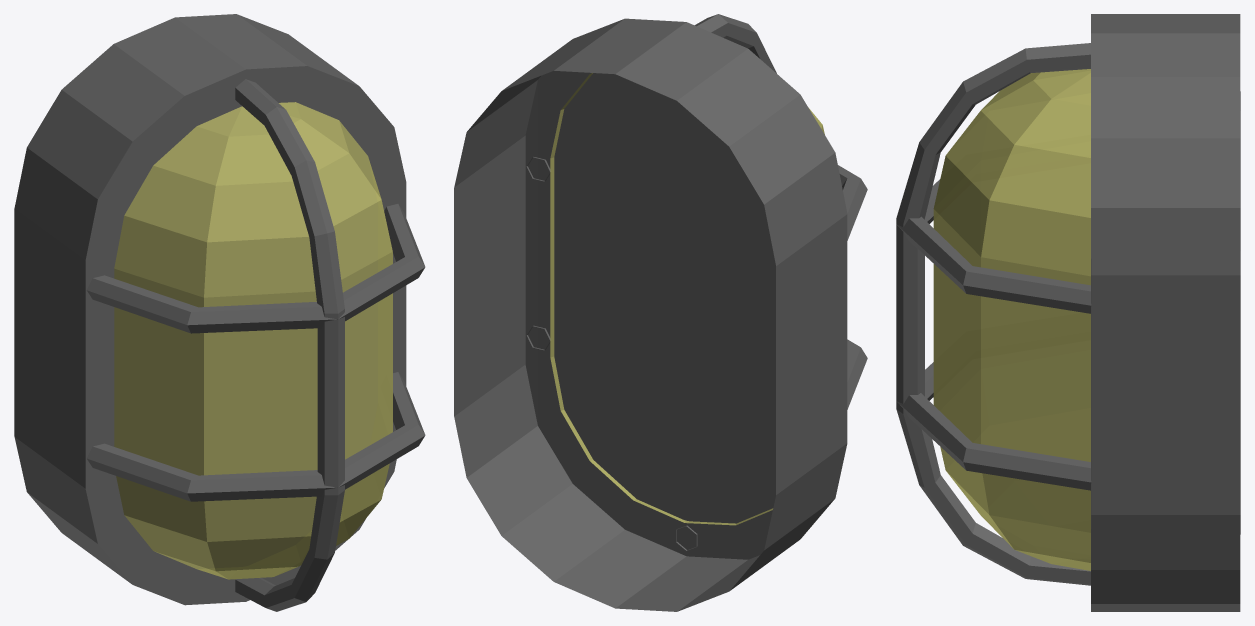
Rendered from Strct_Lvl1_ZoneA_WallLight.fbx.
3 renders of one model, left to right at view 1: azimuth 30°, elevation 25°; view 2: azimuth 150°, elevation 25°; view 3: azimuth 270°, elevation 25°, orthographic. The views are drawn at different scales.
Visible parts, largest first — view 1: Mesh; view 2: Mesh; view 3: Mesh.
Part boxes in pixels (x1,y1,x2,y2): Mesh: (14,14,425,611); Mesh: (454,14,867,611); Mesh: (896,14,1240,611).
Size of the model in its own units: 22.96 by 36.41 by 20.31.
